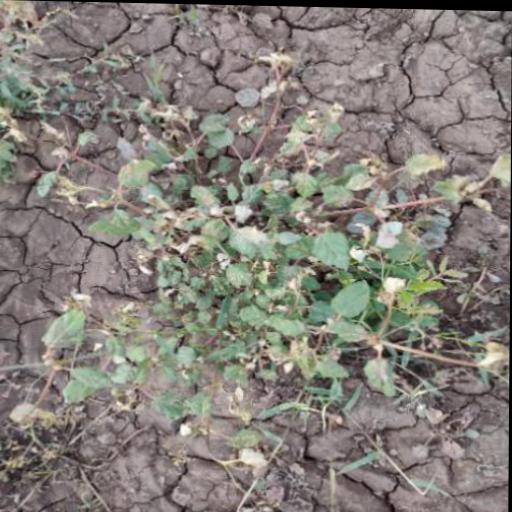weed: (6, 49, 503, 491)
